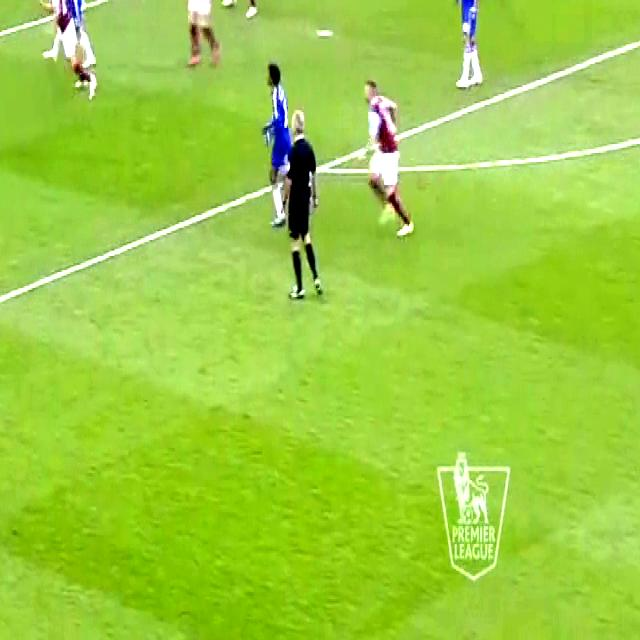referee: (284, 104, 334, 310)
soccer-player: (358, 70, 417, 252), (256, 57, 296, 238), (441, 0, 486, 103), (56, 0, 100, 103), (177, 0, 224, 71), (42, 0, 78, 84), (223, 0, 262, 23), (59, 0, 97, 18), (464, 0, 510, 2)
